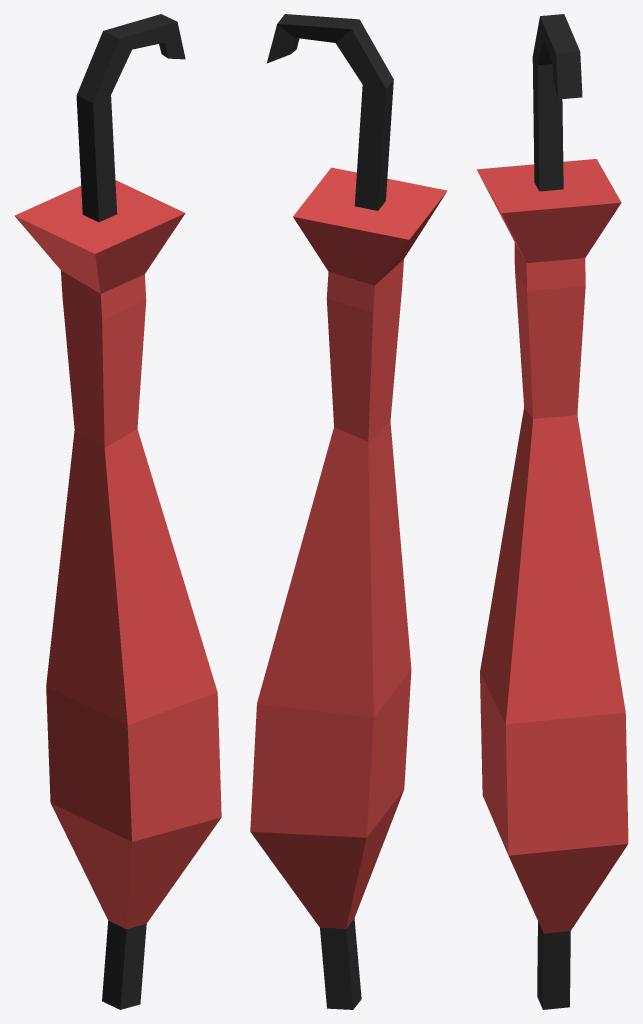
Rendered from umbrella.fbx.
3 views of the same model, side by side, from view 1: azimuth 30°, elevation 25°; view 2: azimuth 150°, elevation 25°; view 3: azimuth 270°, elevation 25° (orthographic).
Visible parts, largest first — view 1: Cube; view 2: Cube; view 3: Cube.
Boxes of the visible parts, x1=… form: Cube: x1=14, y1=14, x2=221, y2=1009; Cube: x1=250, y1=14, x2=447, y2=1009; Cube: x1=476, y1=14, x2=628, y2=1009.
Size of the model in its own units: 106 by 603 by 84.52.
